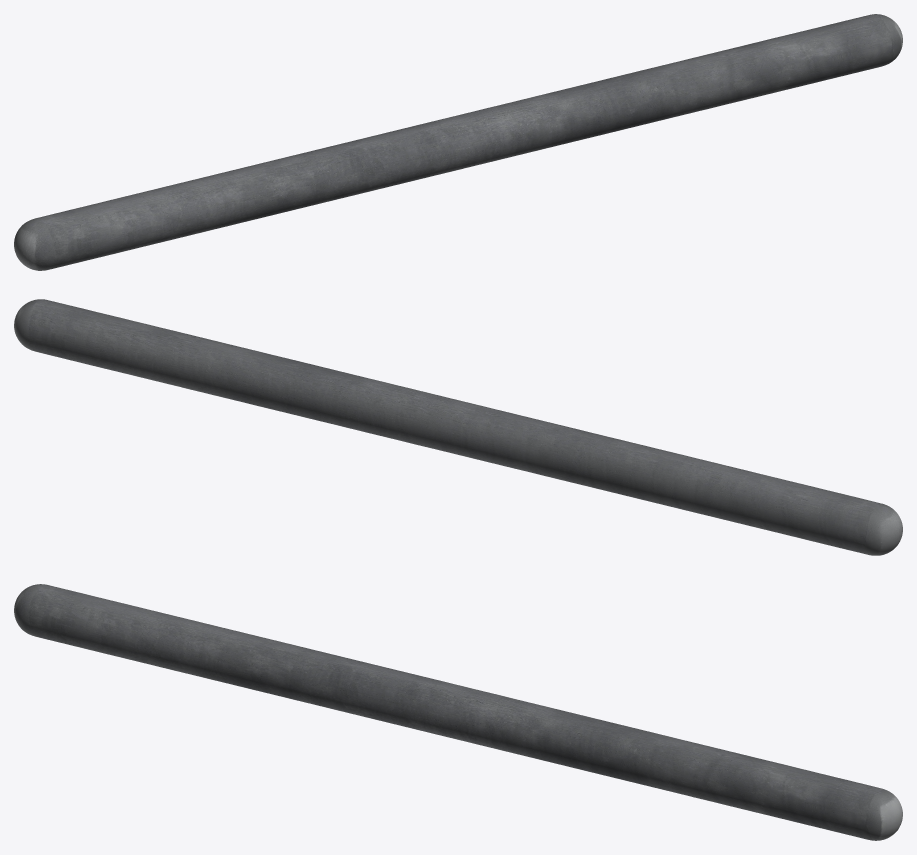
File: agitador_vidrio5M.glb
3 views of the same model, one above another, from view 1: azimuth 30°, elevation 25°; view 2: azimuth 150°, elevation 25°; view 3: azimuth 330°, elevation 25° (orthographic).
Parts seen in each view (by area): view 1: Mesh_0; view 2: Mesh_0; view 3: Mesh_0.
Part boxes in pixels (x1=…): Mesh_0: x1=14, y1=14, x2=902, y2=270; Mesh_0: x1=14, y1=299, x2=902, y2=555; Mesh_0: x1=14, y1=584, x2=902, y2=840.
Size of the model in its own units: 95.83 by 5 by 5.03.
1 material, 1 textured.
